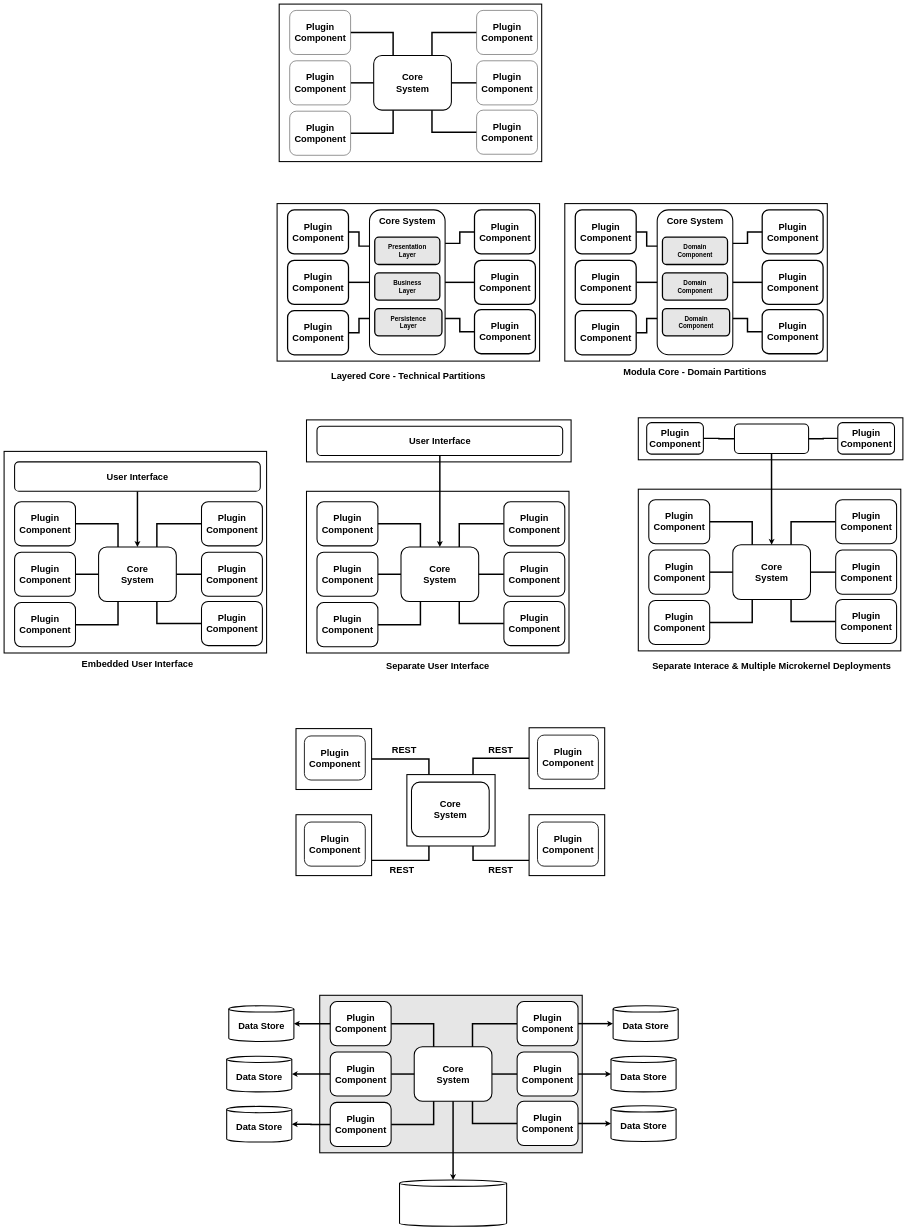
The diagram is 907 pixels wide and 1230 high, and some of its shapes have lost their labels. The shapes that lost their labels are listed below. From the top down, each one's centre as x and y in pixels, then its label:
point 771,438: User Interface (Core)
point 453,1203: Database
